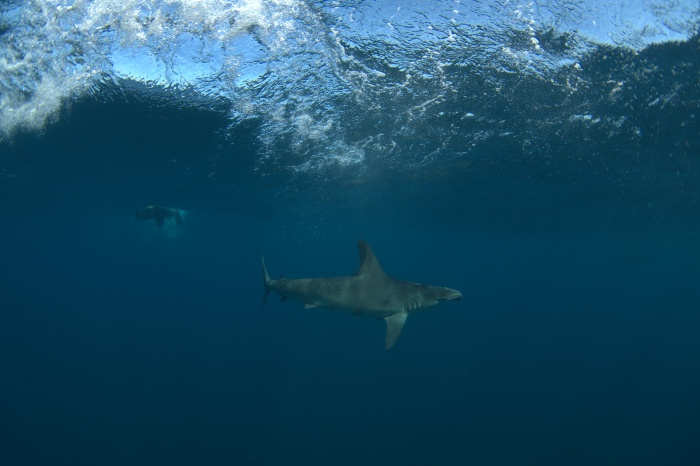Hammer: (245, 231, 485, 378)
